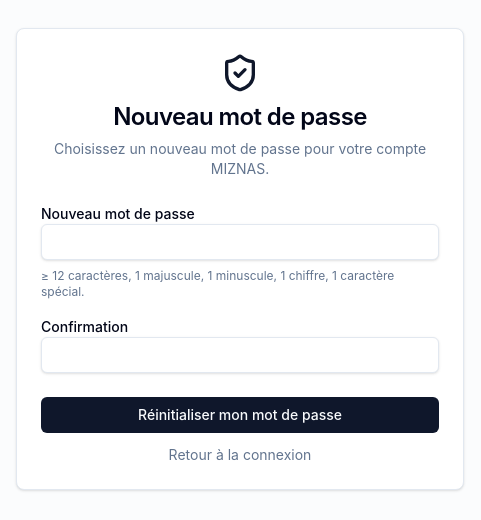
Scenario: ResetPasswordPage › policy : pas de caractère spécial → erreur zod
Type "NoSpecialChar9" into the password field with test id "rp-nouveau". click: coordinates (240, 242)
box: [41, 224, 439, 260]
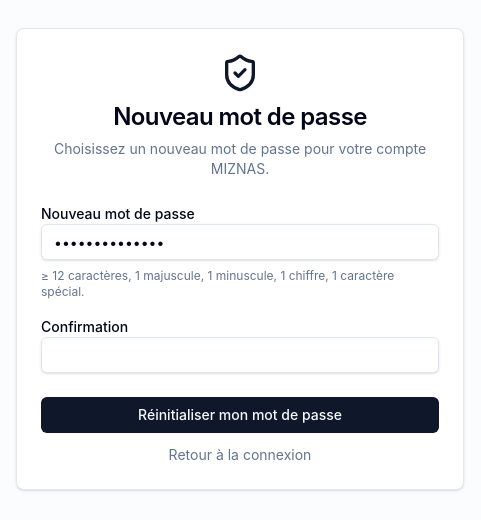
Type "NoSpecialChar9" into the password field with test id "rp-confirmation". click: coordinates (240, 355)
box: [41, 337, 439, 373]
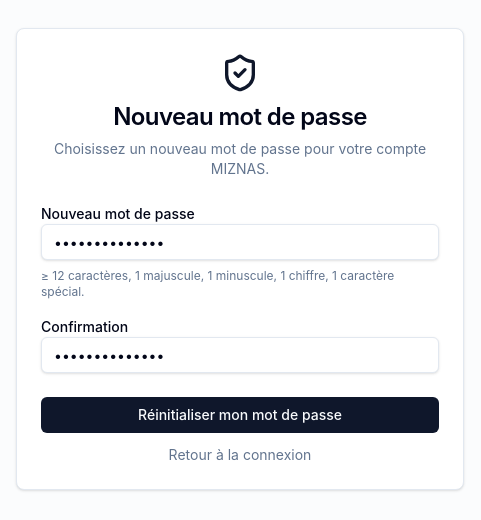
Click the button with test id "rp-submit". click: coordinates (240, 415)
box: [41, 397, 439, 433]
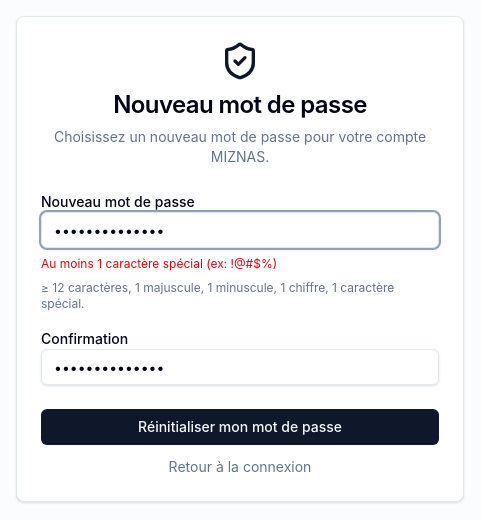
expect the text "Au moins 1 caractère spécial (ex: !@#$%)" is shown: met, box [41, 256, 277, 271]
